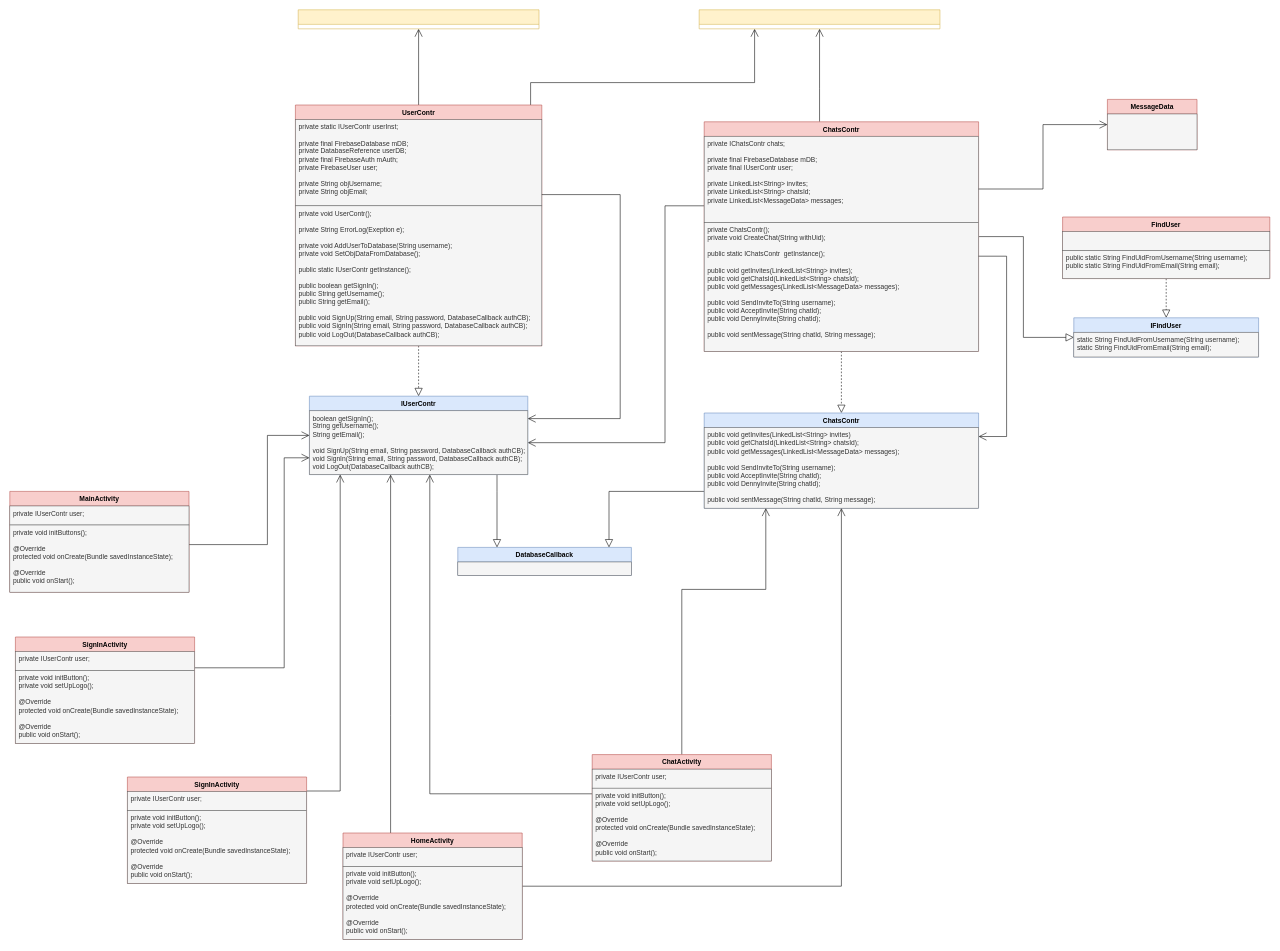
The diagram is 1280 pixels wide and 951 high, and some of its shapes have lost their labels. Each missing label, with the centre of its shape:
FirebaseAuth: (418,19)
FirebaseDatabase: (819,19)
private static final FirebaseDatabase db;: (1166,241)
public String id; public String message; public String time;: (1152,131)
void onCompose(boolean success, String ErrorLog);: (544,568)
